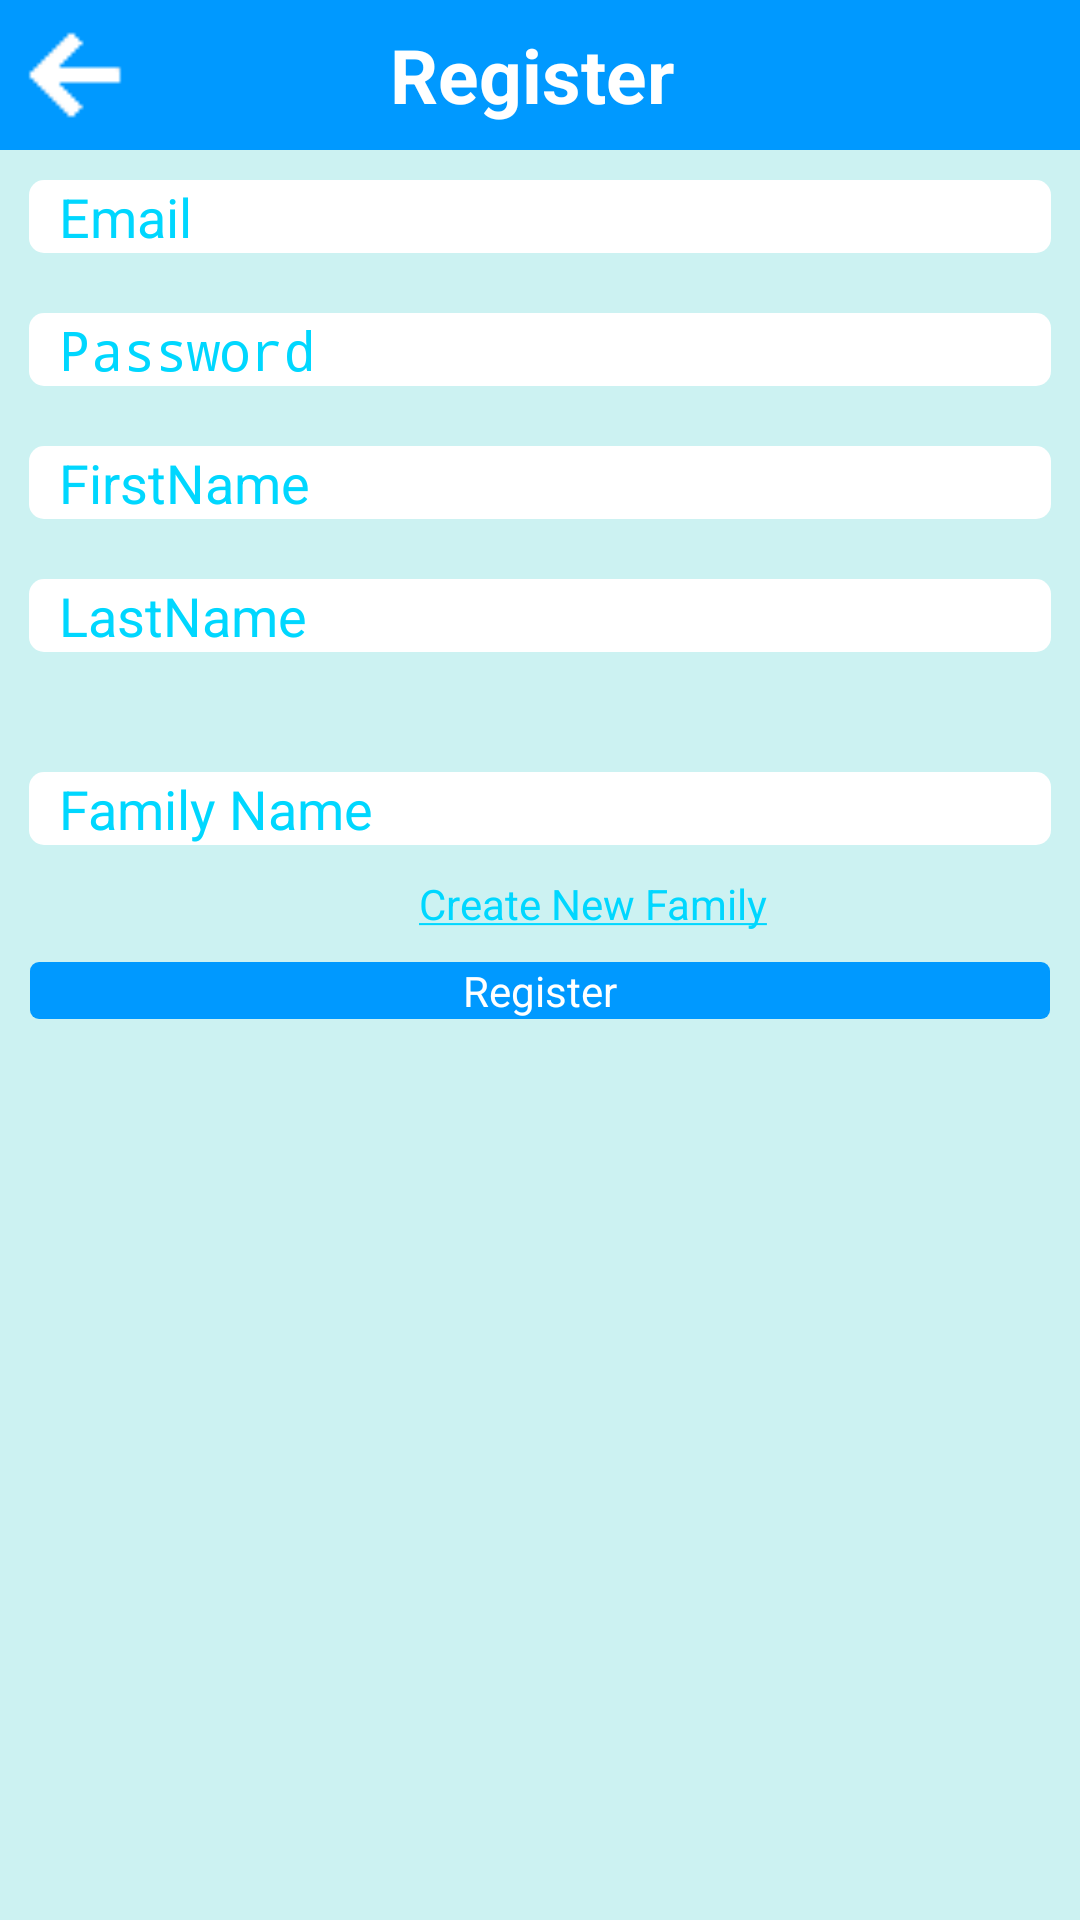

Icon click points for this 1080*1920 phone screenshot, format (x,y):
back: (75,75)
